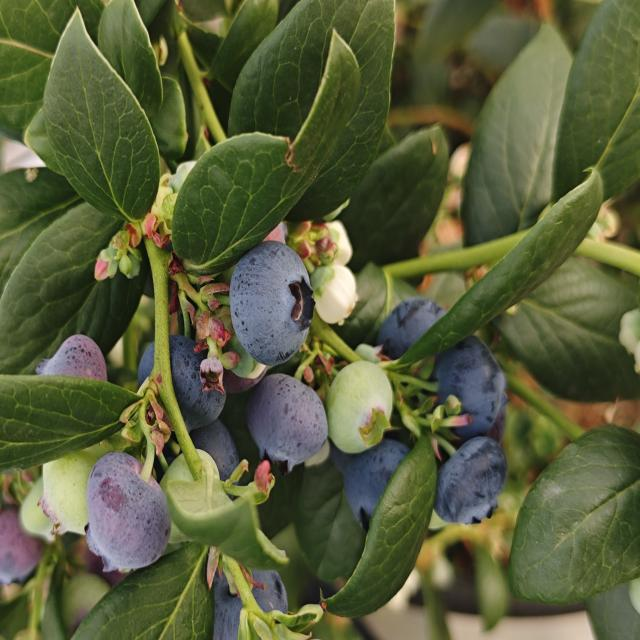ripe: (227, 238, 317, 370), (82, 449, 173, 575), (135, 332, 228, 434), (244, 371, 330, 476), (338, 430, 423, 534), (433, 434, 509, 528), (183, 419, 243, 517), (34, 328, 110, 400), (447, 336, 505, 423), (211, 573, 281, 640), (381, 303, 443, 346), (2, 513, 40, 575)
